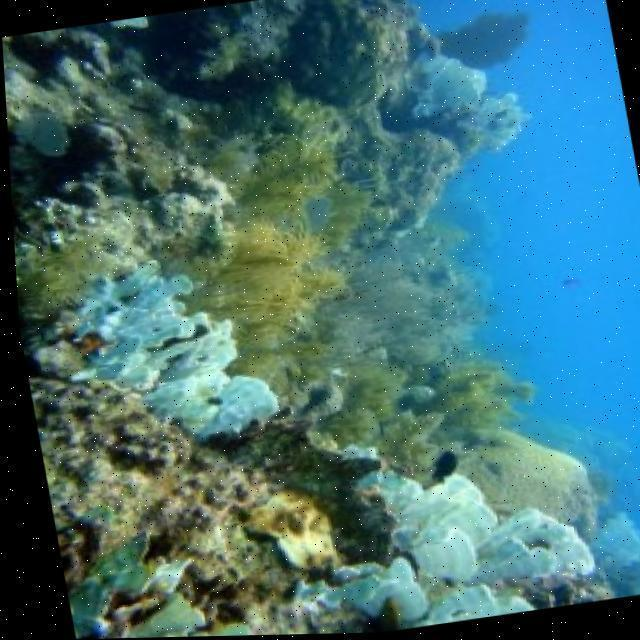Bleached Coral: (298, 454, 590, 635), (59, 242, 274, 460)
